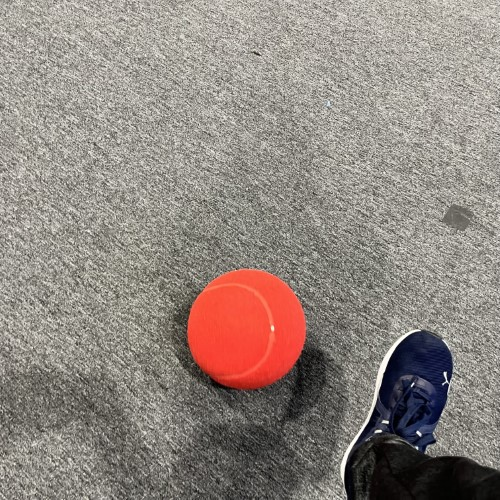red: (184, 266, 308, 393)
